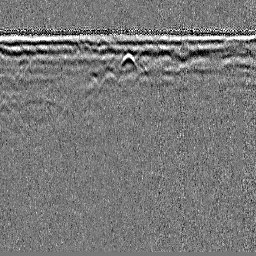cavity: (119, 51, 138, 69)
